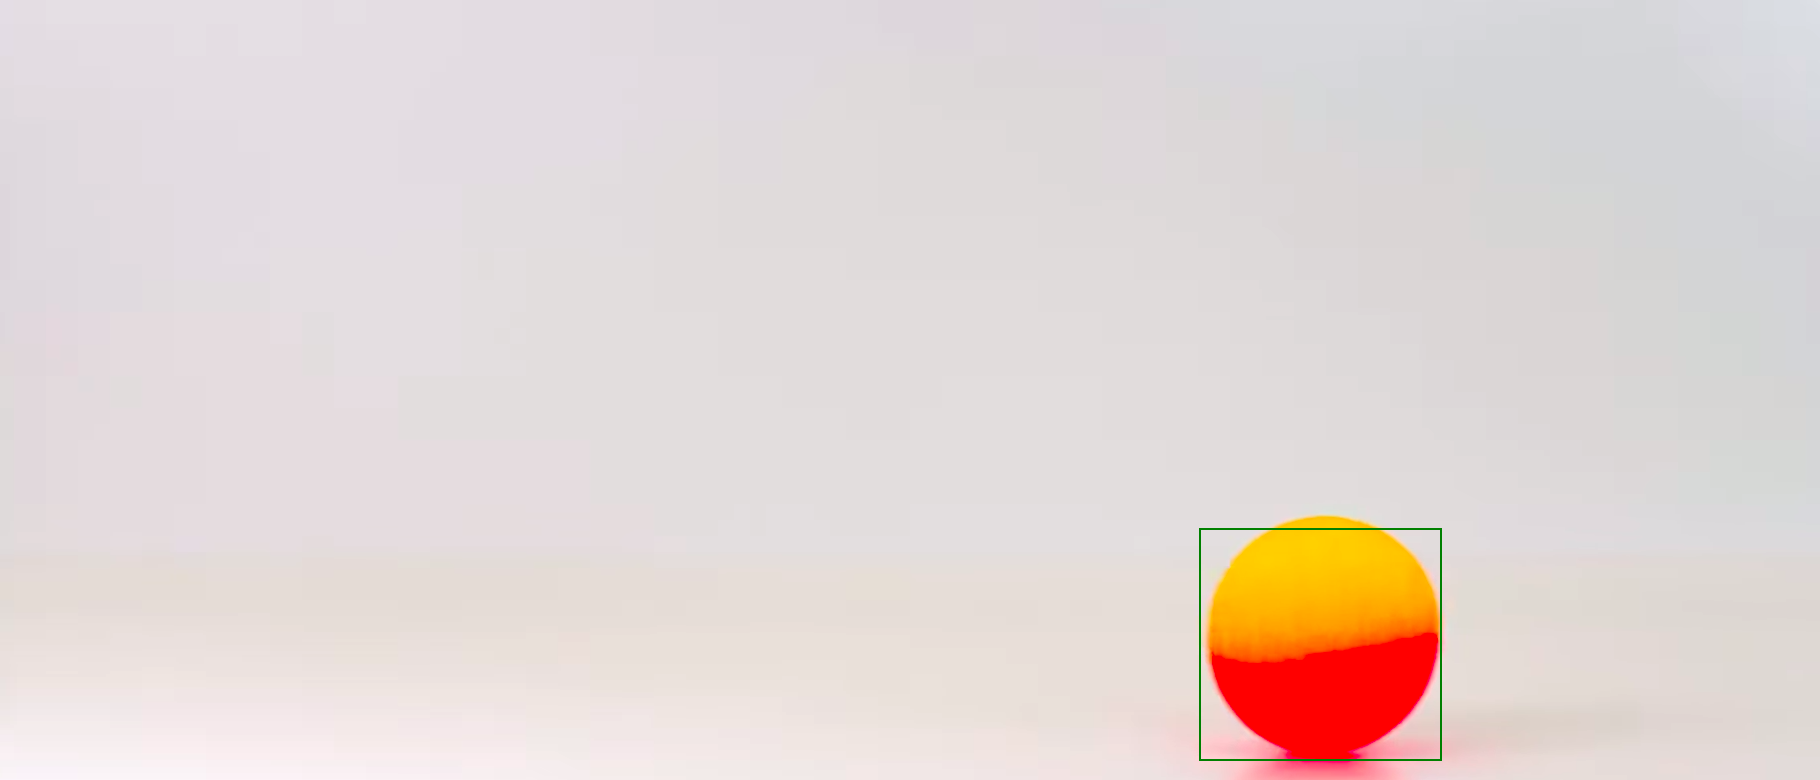Circle: (1204, 512, 1445, 760)
